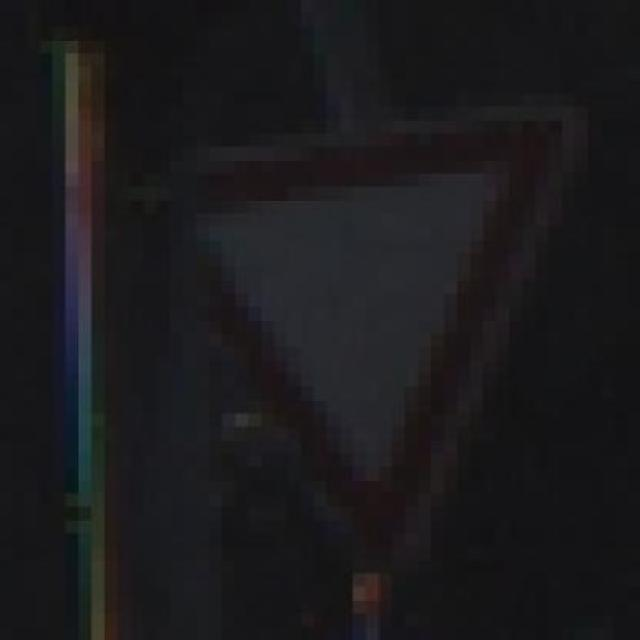Give Way: (104, 54, 601, 574)
